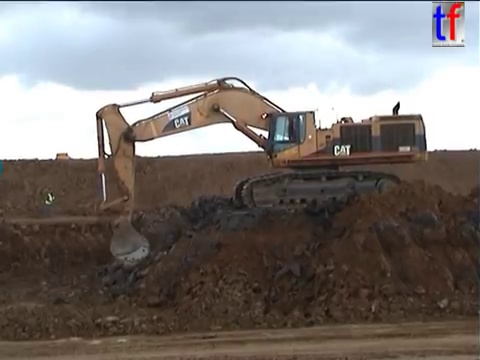excavator: (93, 74, 430, 274)
truck: (53, 151, 70, 166)
worker: (41, 185, 56, 220)
